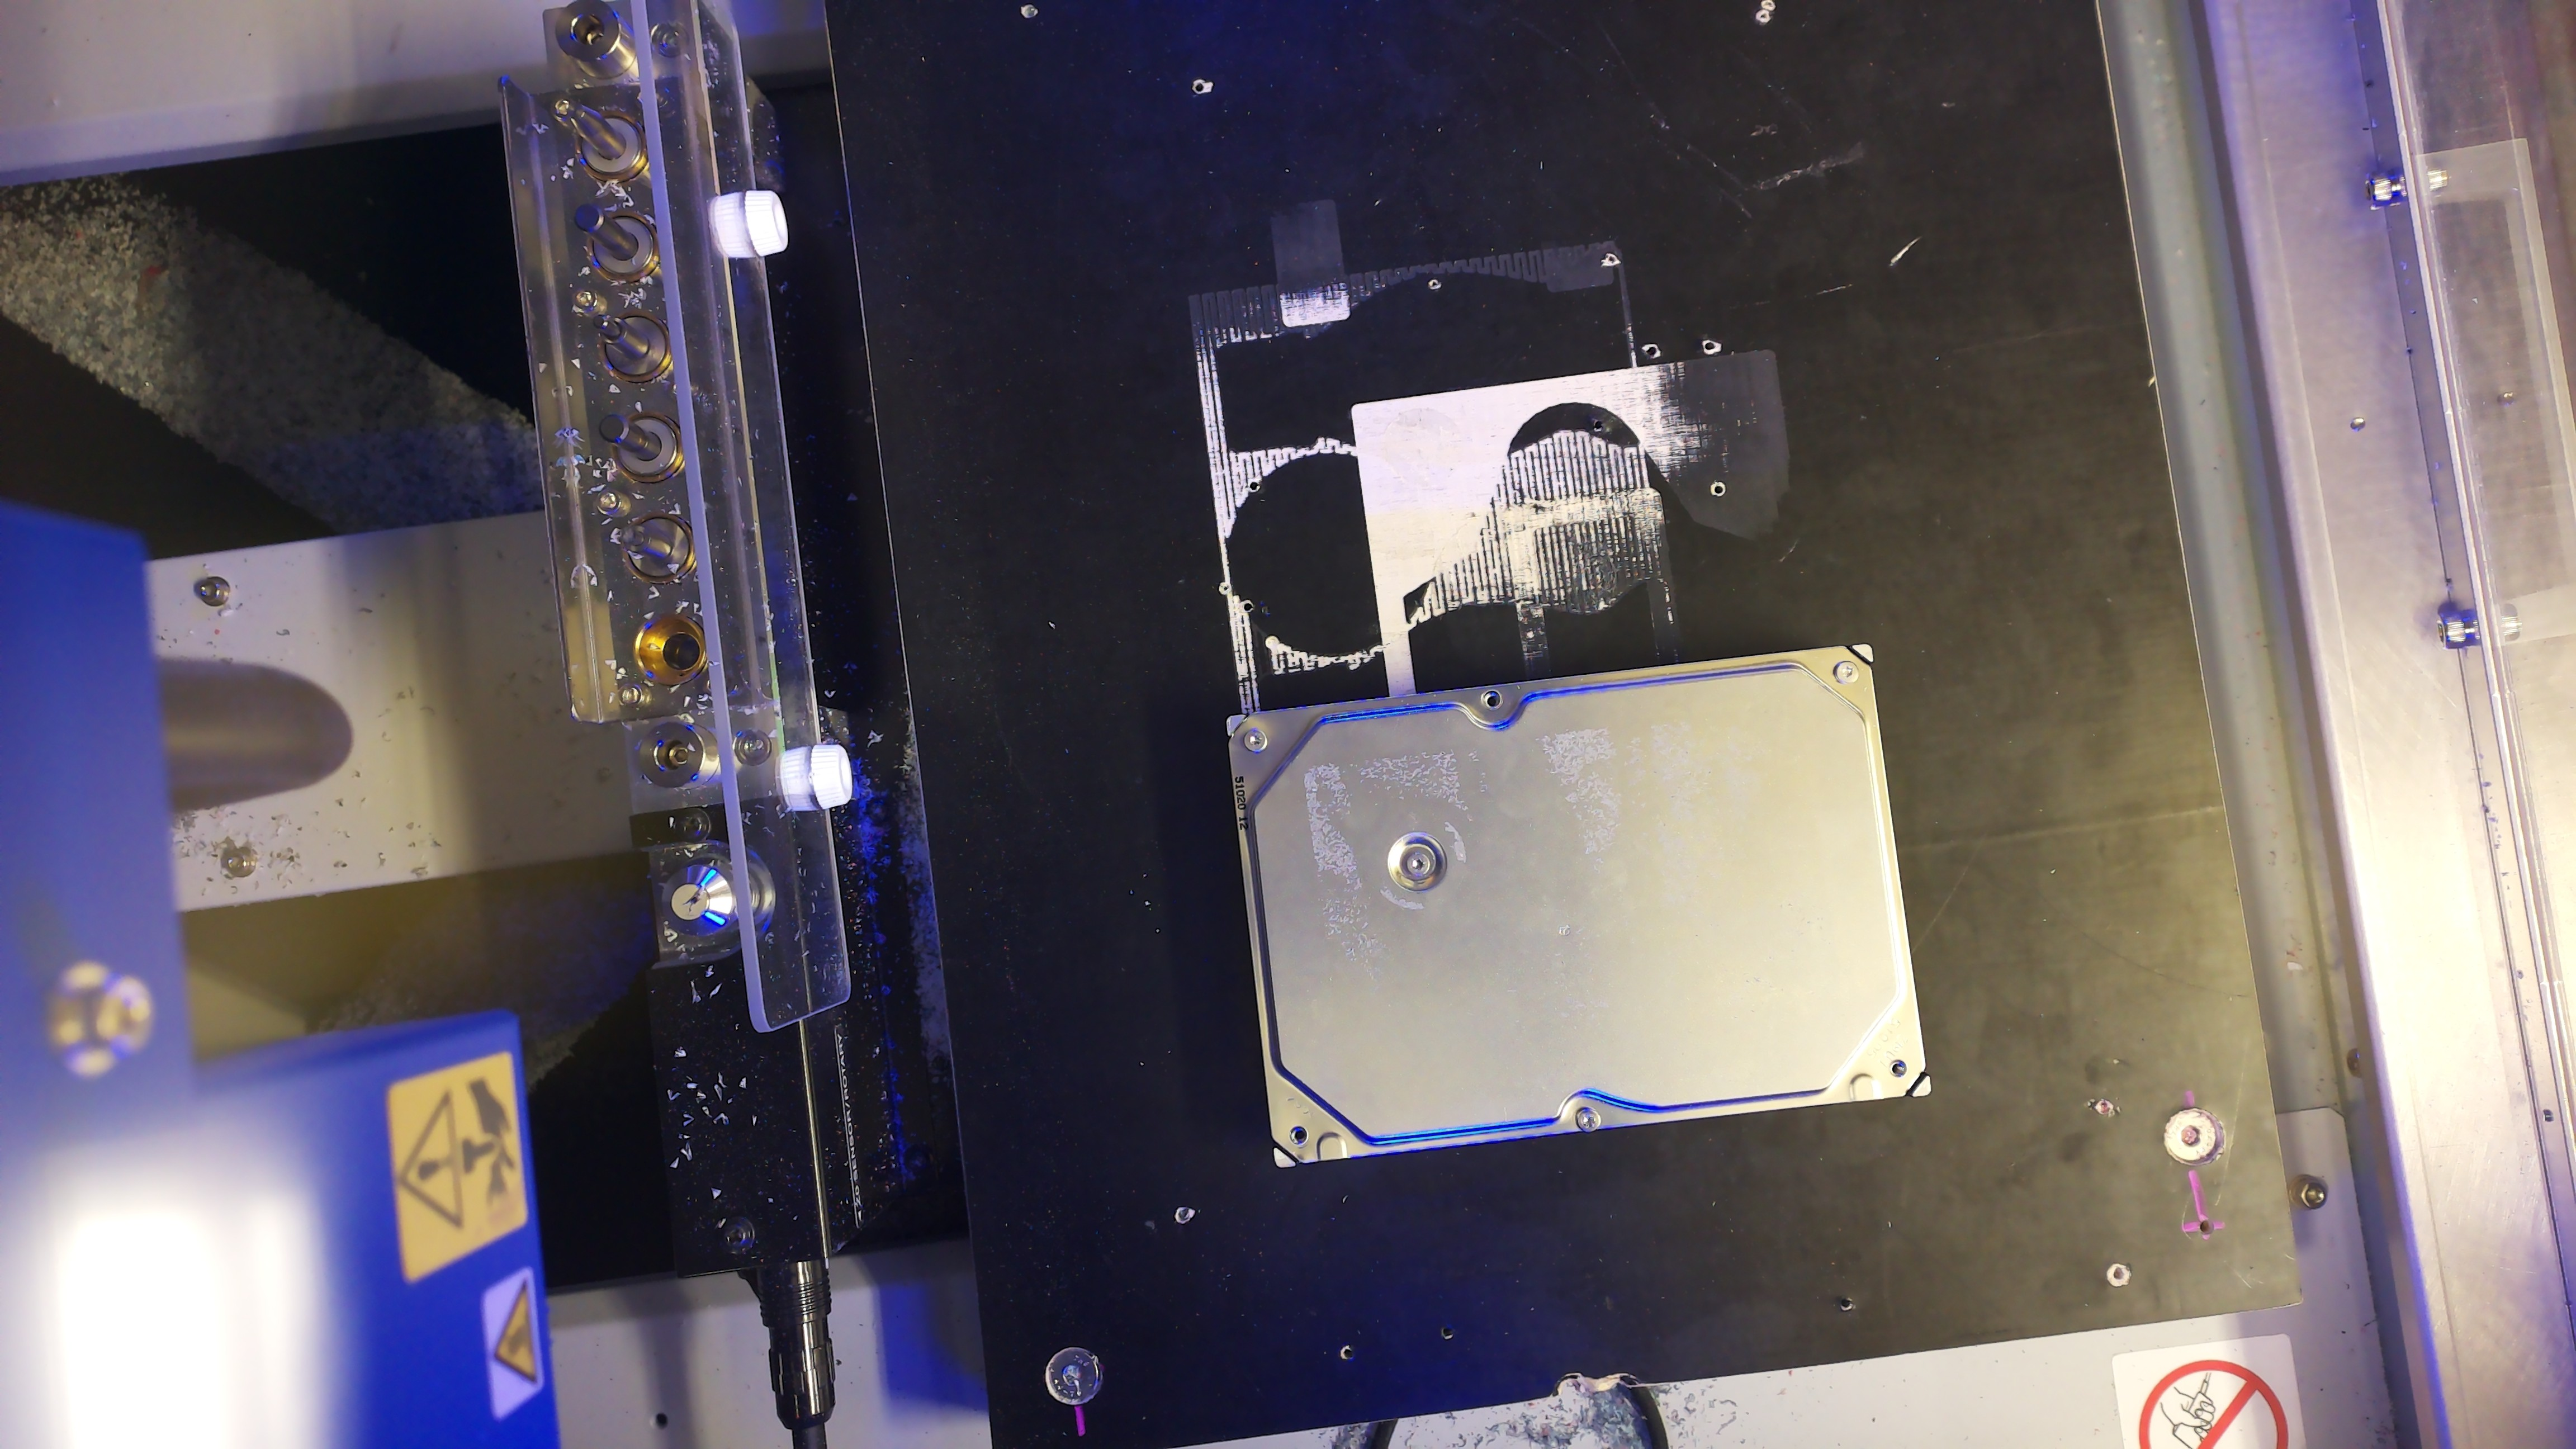Hole: (1480, 688, 1503, 712), (1288, 1125, 1308, 1145), (1888, 1059, 1909, 1078)
Screw: (1834, 660, 1860, 686), (1575, 1108, 1601, 1133), (1405, 851, 1431, 876), (1243, 728, 1267, 753)
